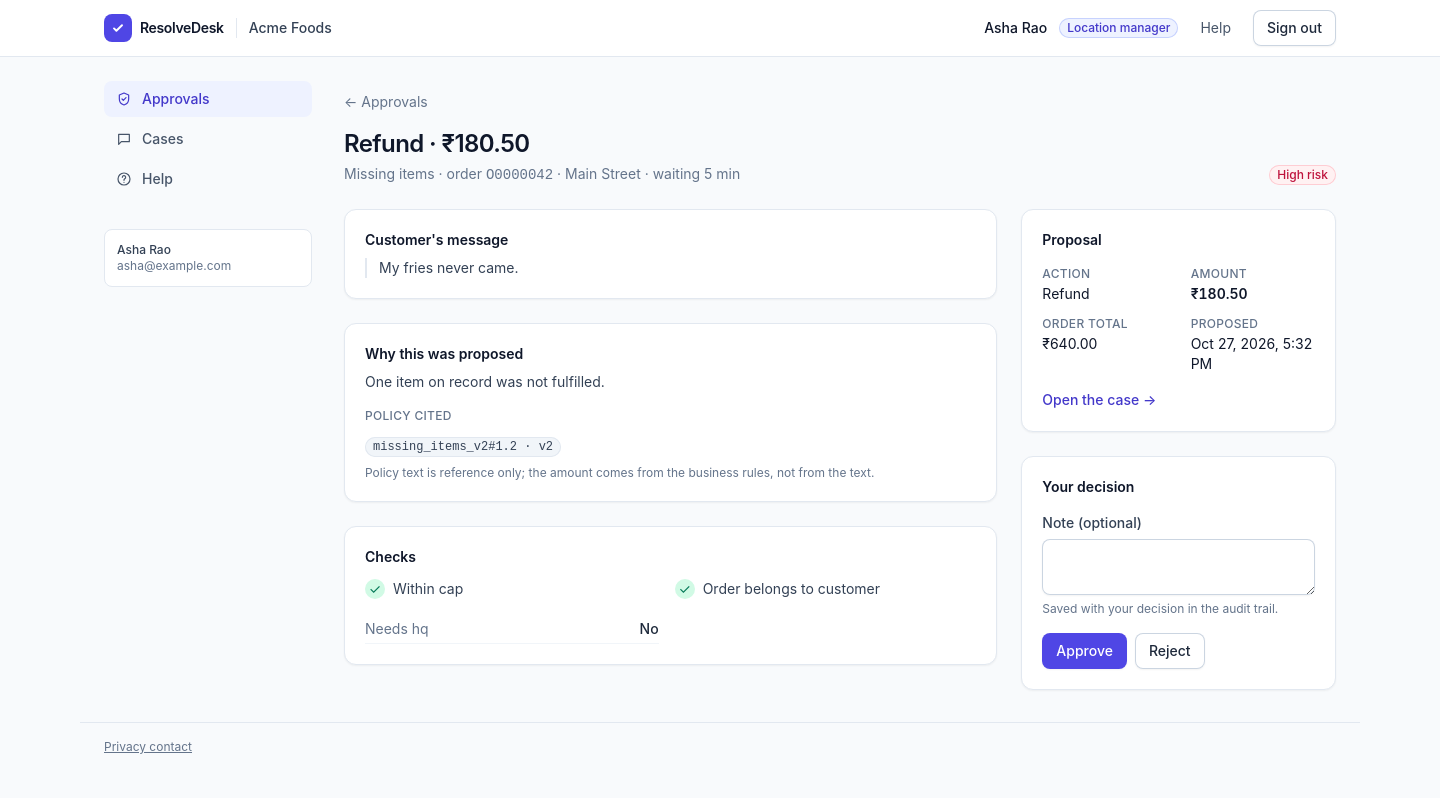
Test: approval detail › rejects with a null note when none is given
Expected: the text "My fries never came." is shown, [365,258,976,278]
Click the button "Reject" at coordinates (1170, 651), box [1135,633,1205,669]
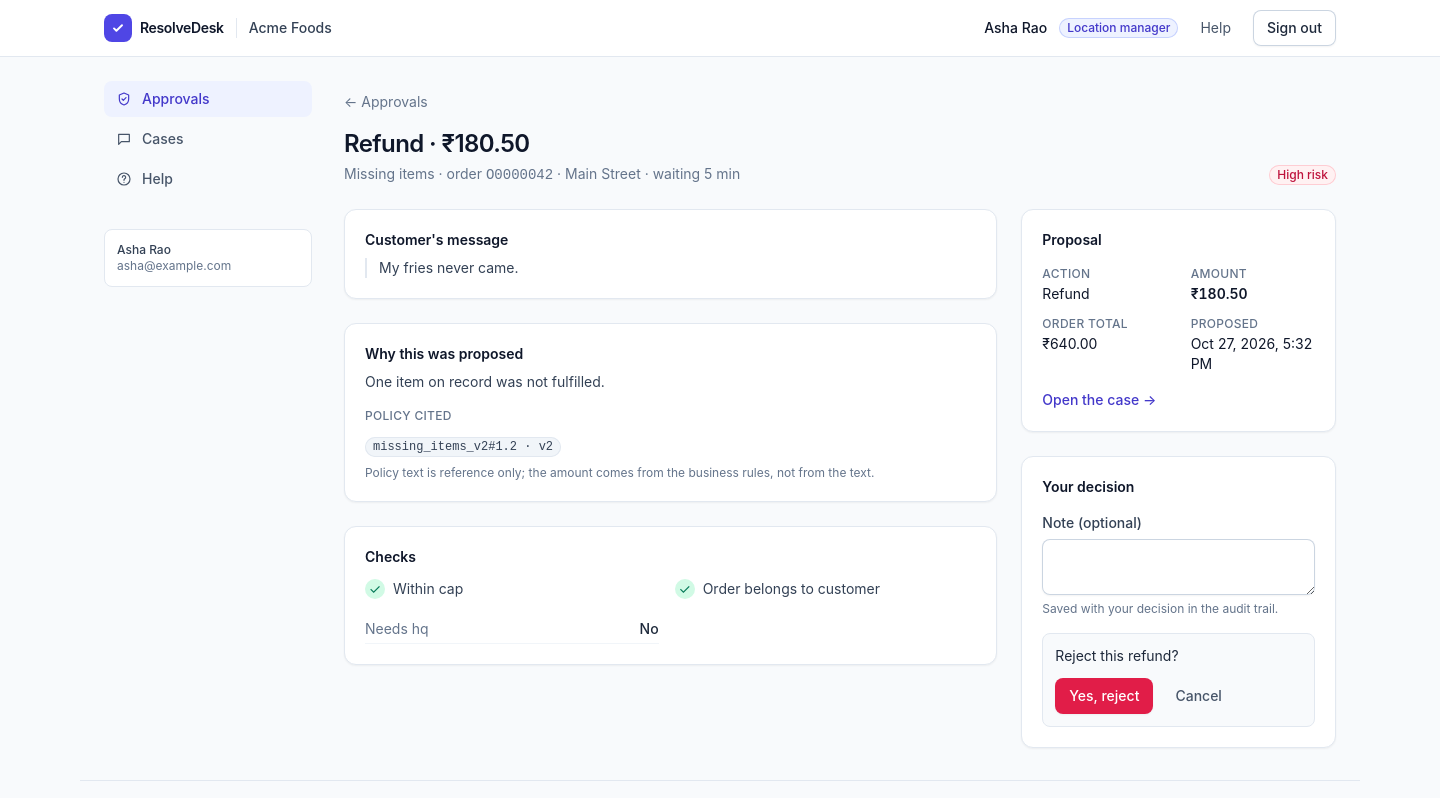
Click the button "Yes, reject" at coordinates (1104, 696), box [1055,678,1153,714]
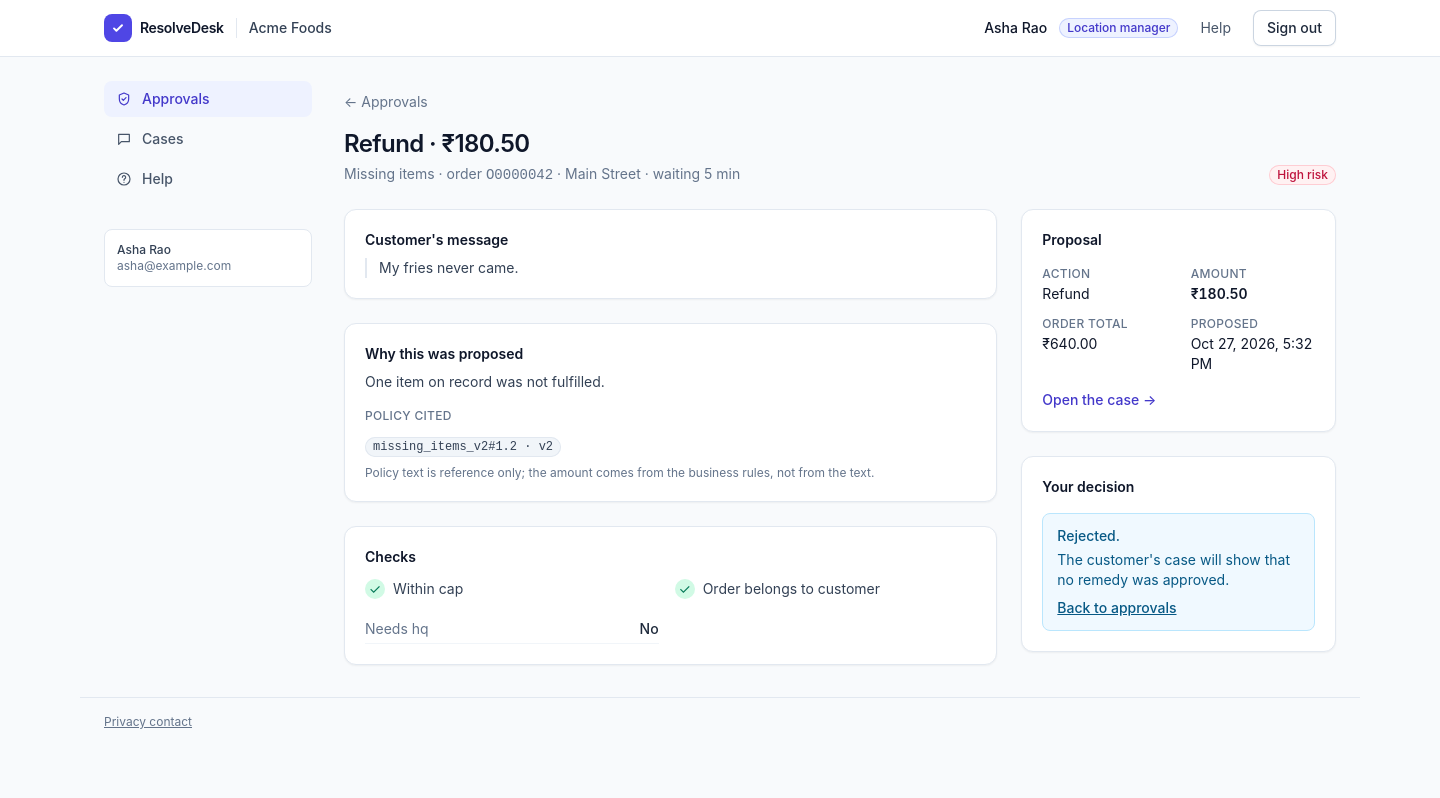
Expected: the text "Rejected." is shown, [1057,527,1120,544]
